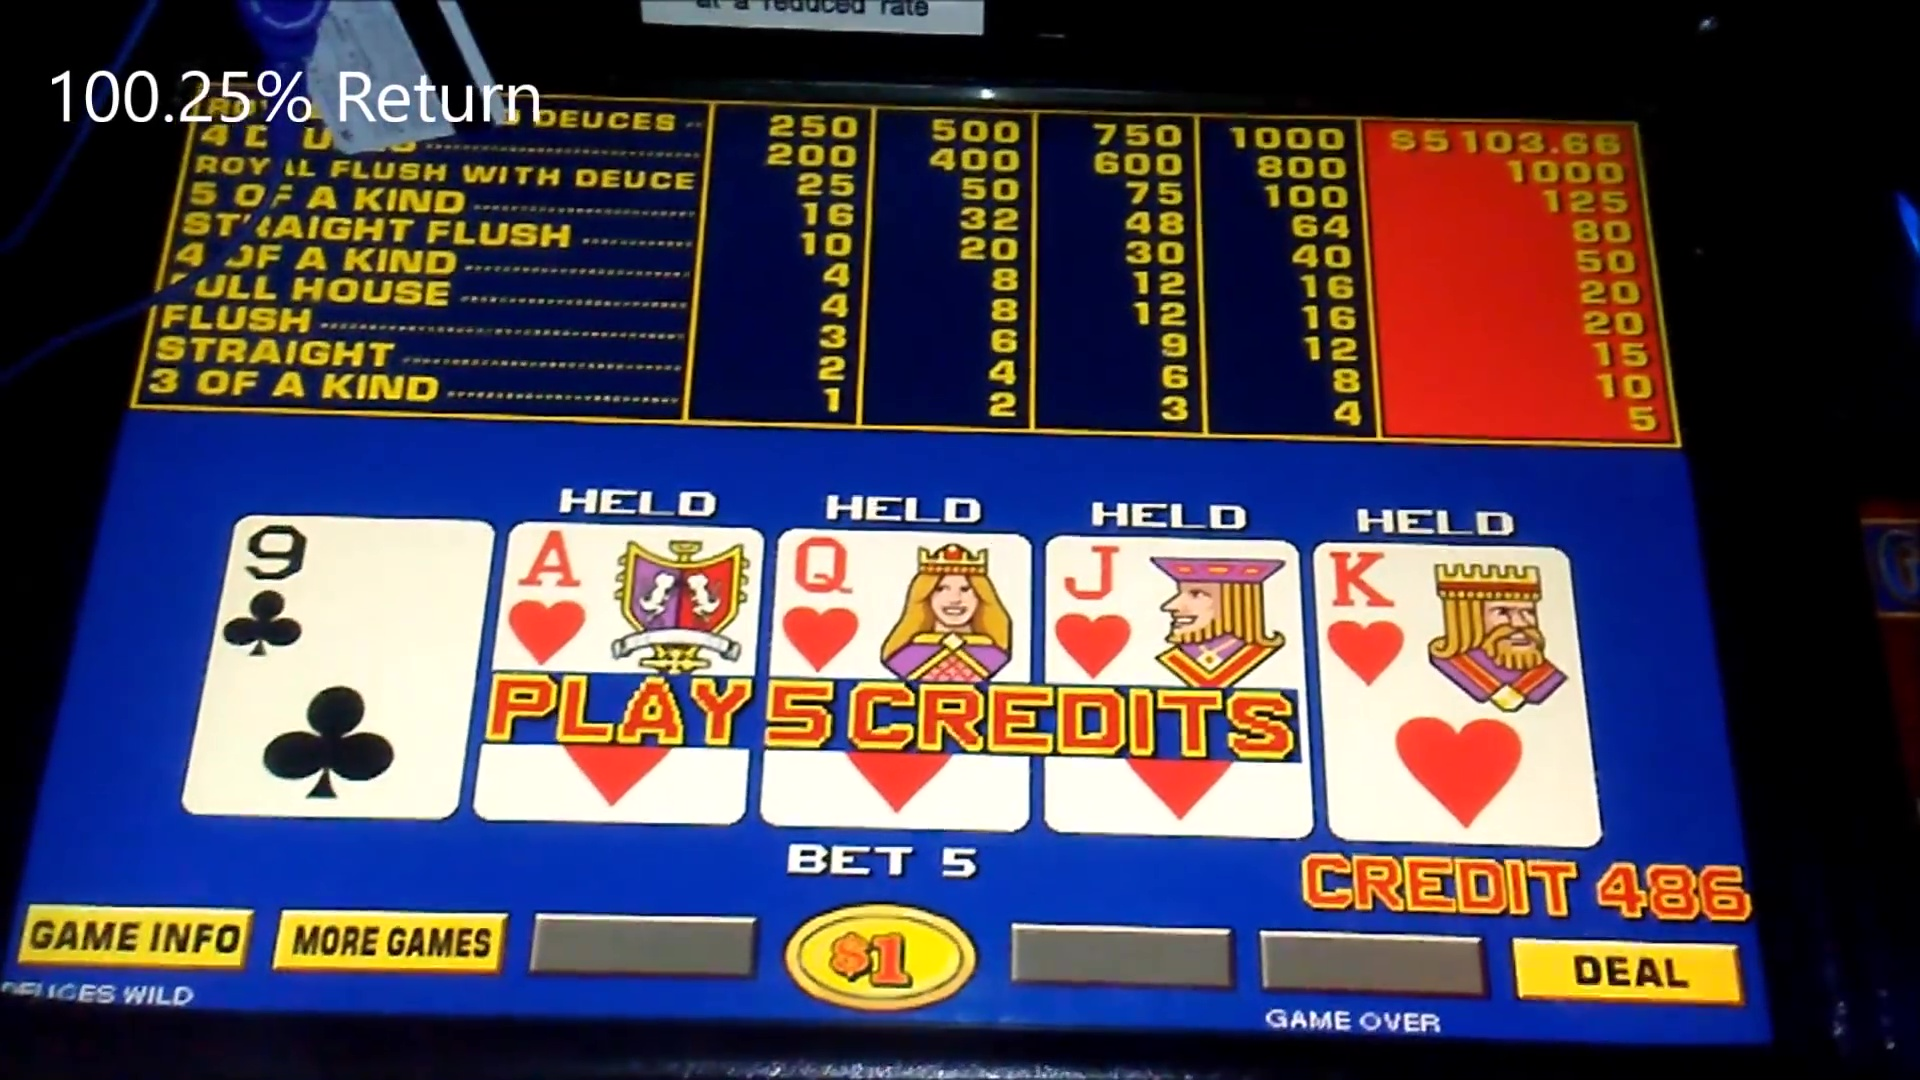9C: (218, 526, 487, 667)
AH: (498, 529, 754, 669)
JH: (1050, 543, 1298, 680)
KH: (1320, 551, 1577, 698)
QH: (775, 537, 1027, 673)
